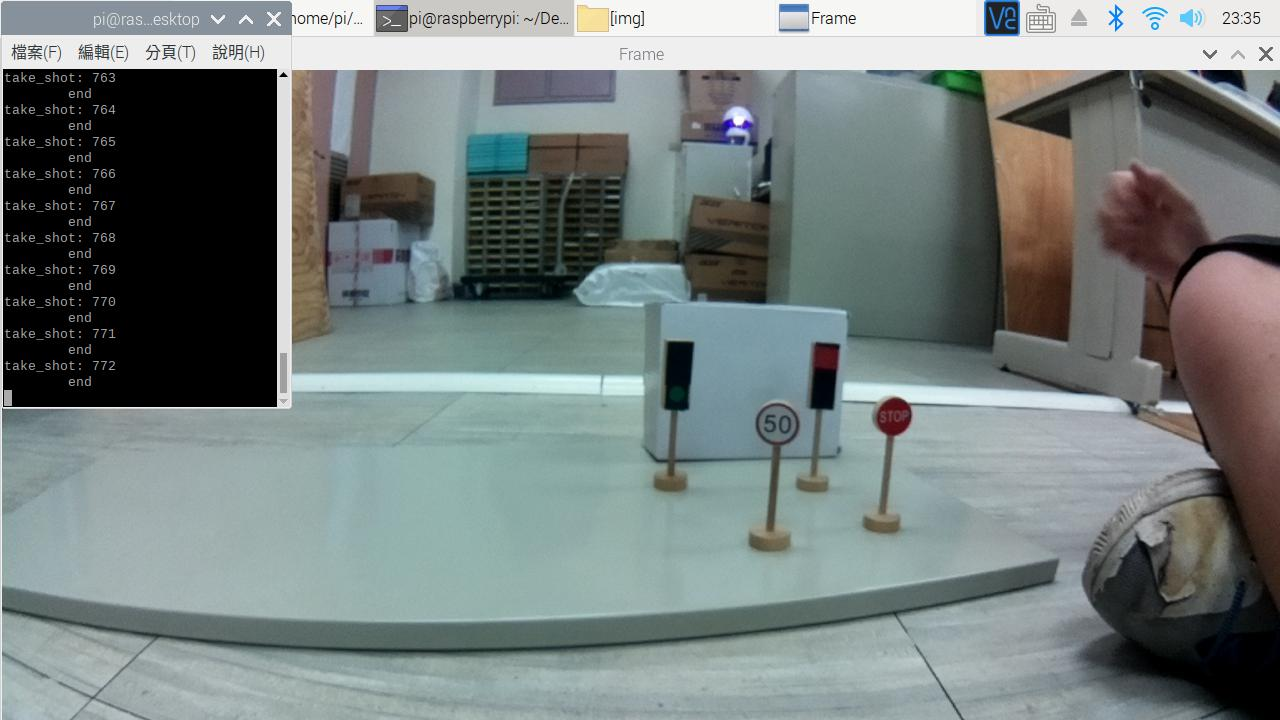Green: (652, 338, 701, 417)
Red: (803, 338, 839, 417)
Speed50: (744, 405, 809, 459)
Stop: (874, 388, 920, 442)
